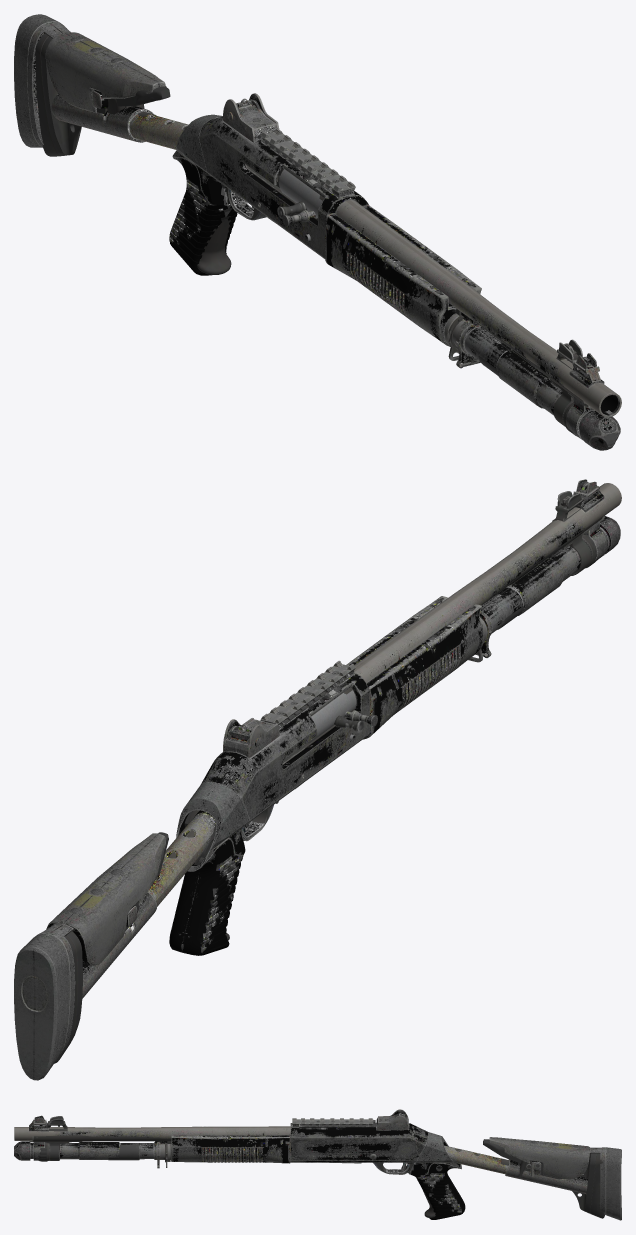
3 views of the same model, one above another, from view 1: azimuth 30°, elevation 25°; view 2: azimuth 150°, elevation 25°; view 3: azimuth 270°, elevation 25° (orthographic). The views are drawn at different scales.
Parts seen in each view (by area): view 1: weapons\models\xm1014\weapon_shot_xm1014.vmdl_c.body_legacy, weapons\models\xm1014\weapon_shot_xm1014.vmdl_c.body_hd; view 2: weapons\models\xm1014\weapon_shot_xm1014.vmdl_c.body_legacy, weapons\models\xm1014\weapon_shot_xm1014.vmdl_c.body_hd; view 3: weapons\models\xm1014\weapon_shot_xm1014.vmdl_c.body_legacy, weapons\models\xm1014\weapon_shot_xm1014.vmdl_c.body_hd.
Part boxes in pixels (x1,y1,x2,y2): weapons\models\xm1014\weapon_shot_xm1014.vmdl_c.body_legacy: (14,14,621,450); weapons\models\xm1014\weapon_shot_xm1014.vmdl_c.body_hd: (35,34,585,436); weapons\models\xm1014\weapon_shot_xm1014.vmdl_c.body_legacy: (14,479,621,1080); weapons\models\xm1014\weapon_shot_xm1014.vmdl_c.body_hd: (54,491,602,1063); weapons\models\xm1014\weapon_shot_xm1014.vmdl_c.body_legacy: (14,1109,621,1220); weapons\models\xm1014\weapon_shot_xm1014.vmdl_c.body_hd: (32,1113,604,1218).
Bounding box in the file's own units: 0.0691 × 0.1835 × 0.9444.
2 materials, 2 textured.
